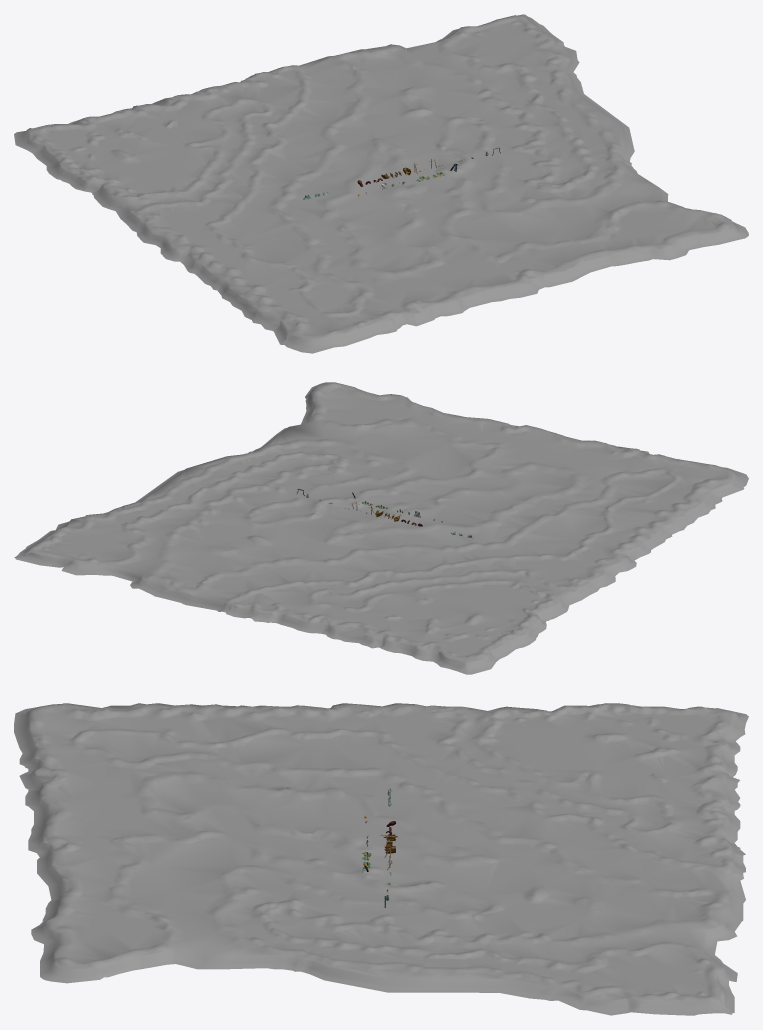
Rendered from yatelan_001.FBX.
3 views of the same model, one above another, from view 1: azimuth 30°, elevation 25°; view 2: azimuth 150°, elevation 25°; view 3: azimuth 270°, elevation 25° (orthographic). The views are drawn at different scales.
Parts seen in each view (by area): view 1: dixing_001; view 2: dixing_001; view 3: dixing_001.
Boxes of the visible parts, x1=… form: dixing_001: x1=14, y1=14, x2=748, y2=353; dixing_001: x1=14, y1=382, x2=748, y2=674; dixing_001: x1=14, y1=703, x2=748, y2=1015.
Bounding box in the file's own units: 29859 × 1103 × 29777.
